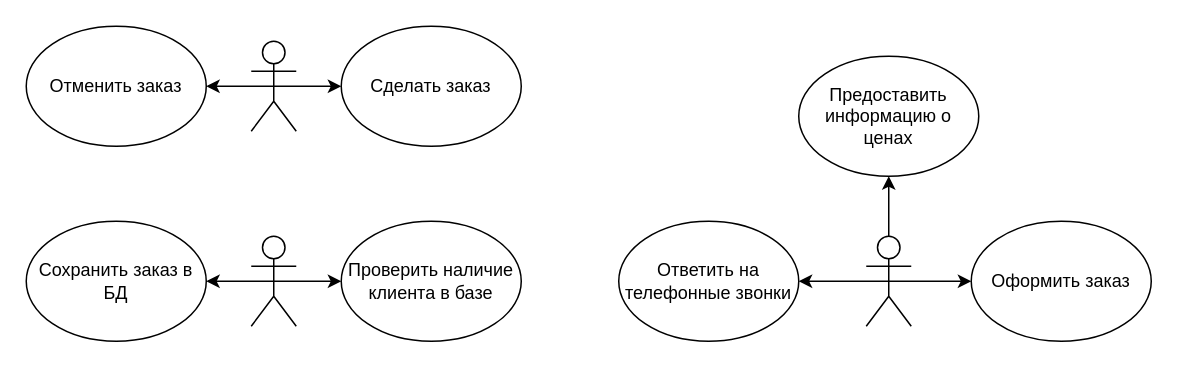
This 1178x384 diagram has some shape labels left out. The centre of each missing label's shape, as x and y in pixels:
ИС: the point at 273,280
Клиент: the point at 273,85
Сотрудник: the point at 888,280
